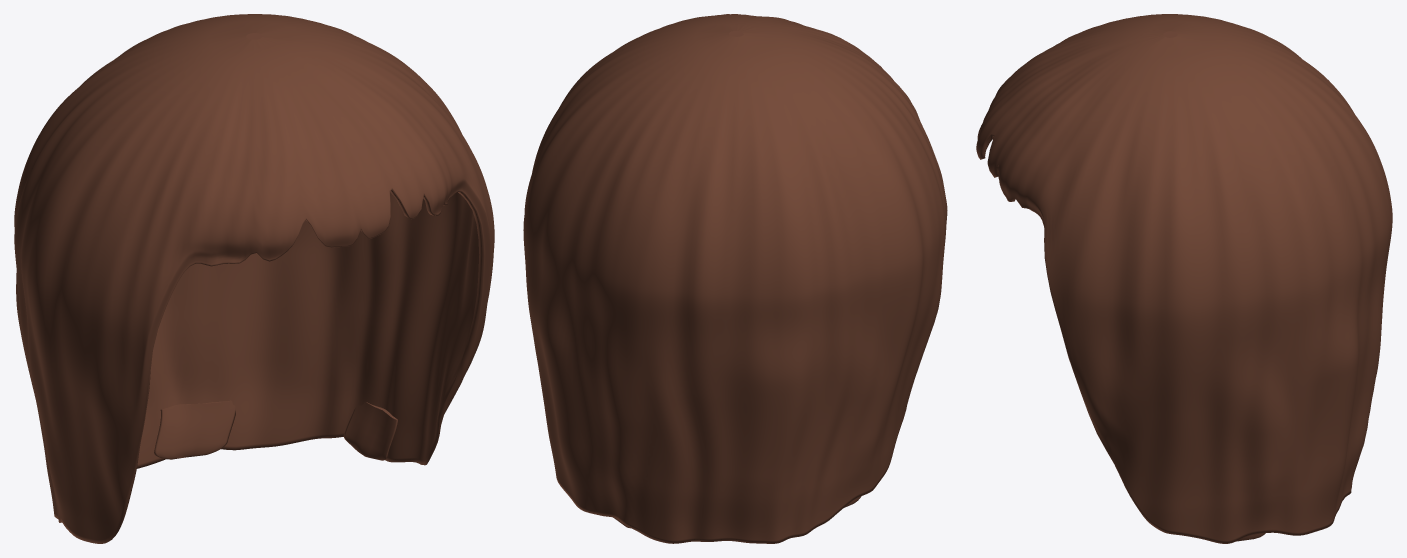
Rendered from spacing.glb.
3 renders of one model, left to right at view 1: azimuth 30°, elevation 25°; view 2: azimuth 150°, elevation 25°; view 3: azimuth 270°, elevation 25°, orthographic. The views are drawn at different scales.
Parts seen in each view (by area): view 1: Hair / soft brow fringe; view 2: Hair / soft brow fringe; view 3: Hair / soft brow fringe.
Part boxes in pixels (<box>): Hair / soft brow fringe: <box>14,14,494,543</box>; Hair / soft brow fringe: <box>523,14,947,543</box>; Hair / soft brow fringe: <box>976,14,1392,543</box>.
Size of the model in its own units: 0.8516 by 0.9549 by 0.7921.
